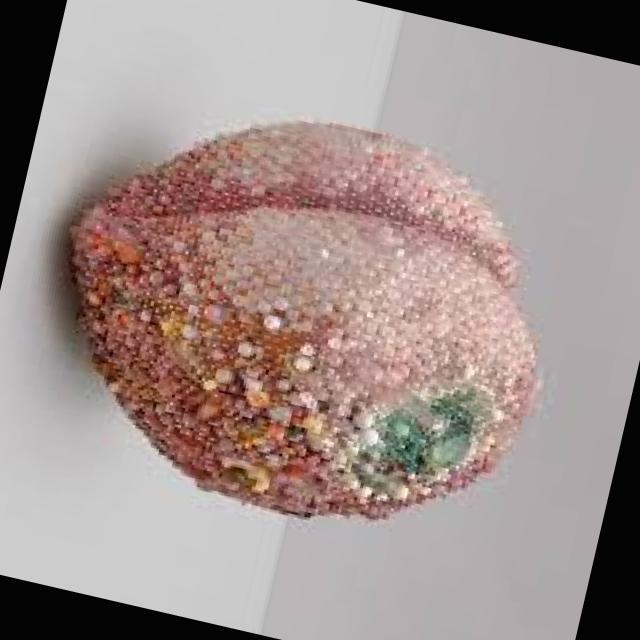organic: (22, 62, 580, 555)
